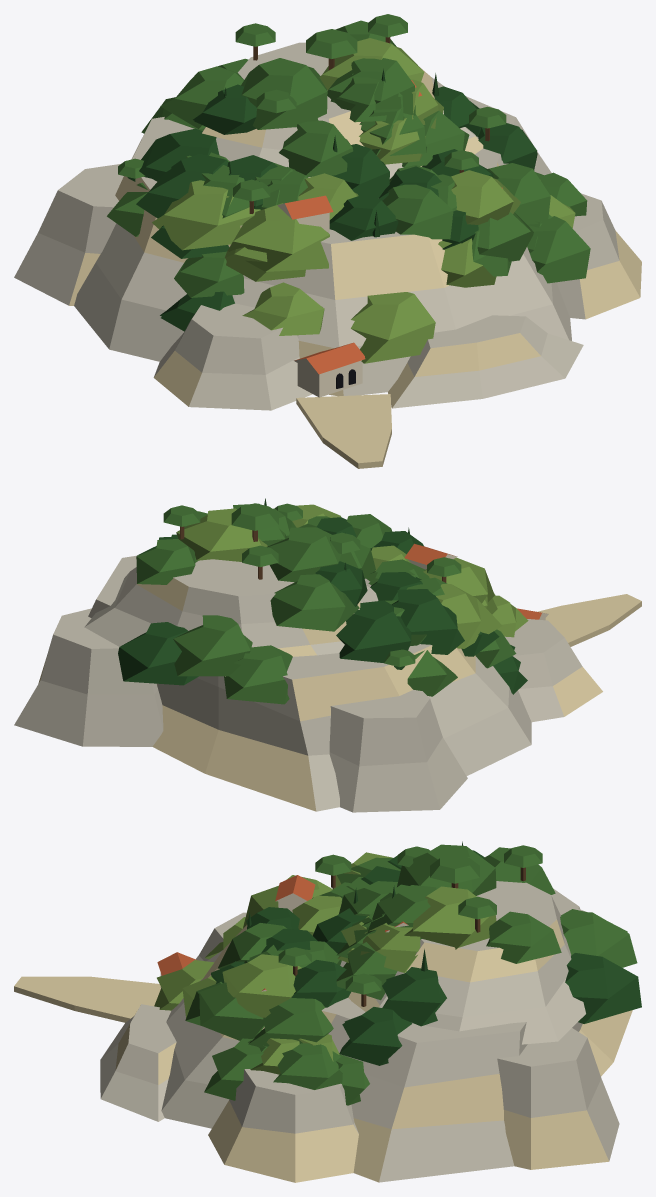
File: isolabella.glb
The picture shows the model from 3 angles, top to bottom: view 1: azimuth 30°, elevation 25°; view 2: azimuth 150°, elevation 25°; view 3: azimuth 270°, elevation 25°; orthographic projection. The views are drawn at different scales.
Parts seen in each view (by area): view 1: POI_isolabella; view 2: POI_isolabella; view 3: POI_isolabella.
Part boxes in pixels (bbox=[...]): POI_isolabella: bbox=[14, 14, 641, 468]; POI_isolabella: bbox=[14, 498, 641, 812]; POI_isolabella: bbox=[14, 841, 641, 1182].
Bounding box in the file's own units: 144 × 61.98 × 165.
